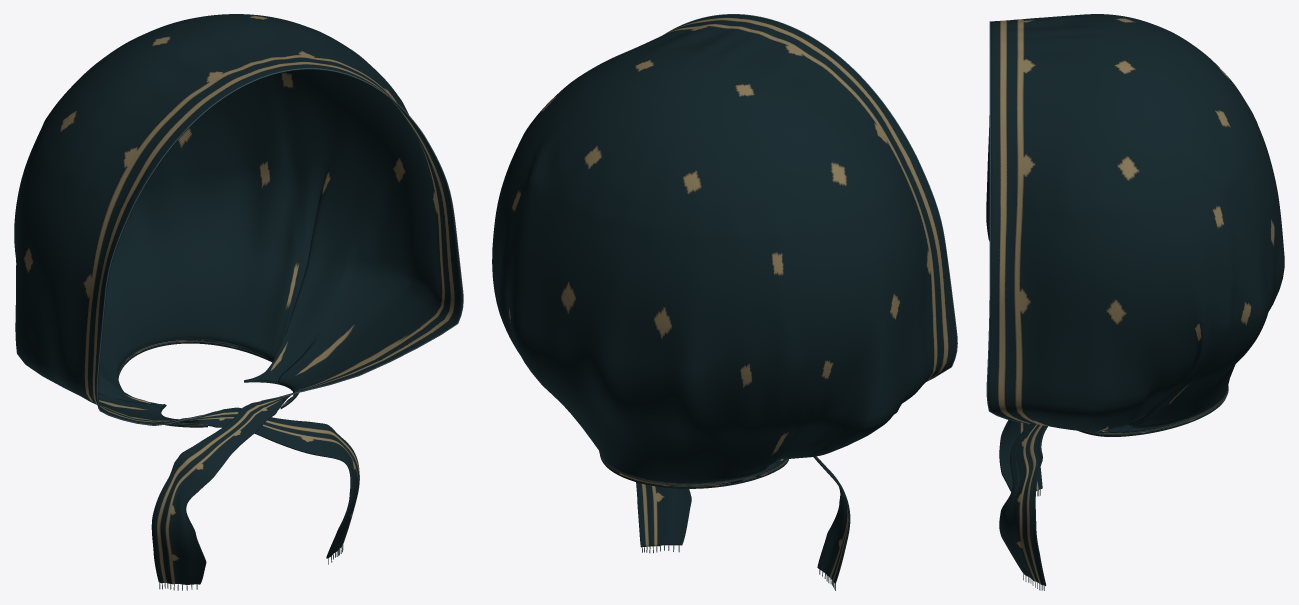
The model's file is Feminine-sweatshirt-gathered-pashmina248-headgear.glb.
3 renders of one model, left to right at view 1: azimuth 30°, elevation 25°; view 2: azimuth 150°, elevation 25°; view 3: azimuth 270°, elevation 25°, orthographic. The views are drawn at different scales.
Parts seen in each view (by area): view 1: 226 headgear / Headwear / continuous woven pashmina239, 226 headgear / Headwear / face edge239; view 2: 226 headgear / Headwear / continuous woven pashmina239, 226 headgear / Headwear / face edge239; view 3: 226 headgear / Headwear / continuous woven pashmina239, 226 headgear / Headwear / face edge239.
Boxes of the visible parts, x1,y1,x2,y2 form: 226 headgear / Headwear / continuous woven pashmina239: [14, 14, 462, 584]; 226 headgear / Headwear / face edge239: [96, 68, 463, 425]; 226 headgear / Headwear / continuous woven pashmina239: [492, 14, 956, 584]; 226 headgear / Headwear / face edge239: [664, 14, 957, 381]; 226 headgear / Headwear / continuous woven pashmina239: [986, 14, 1284, 585]; 226 headgear / Headwear / face edge239: [986, 21, 1029, 423].
Size of the model in its own units: 1.02 by 1.35 by 0.7112.
3 materials, 1 textured.
